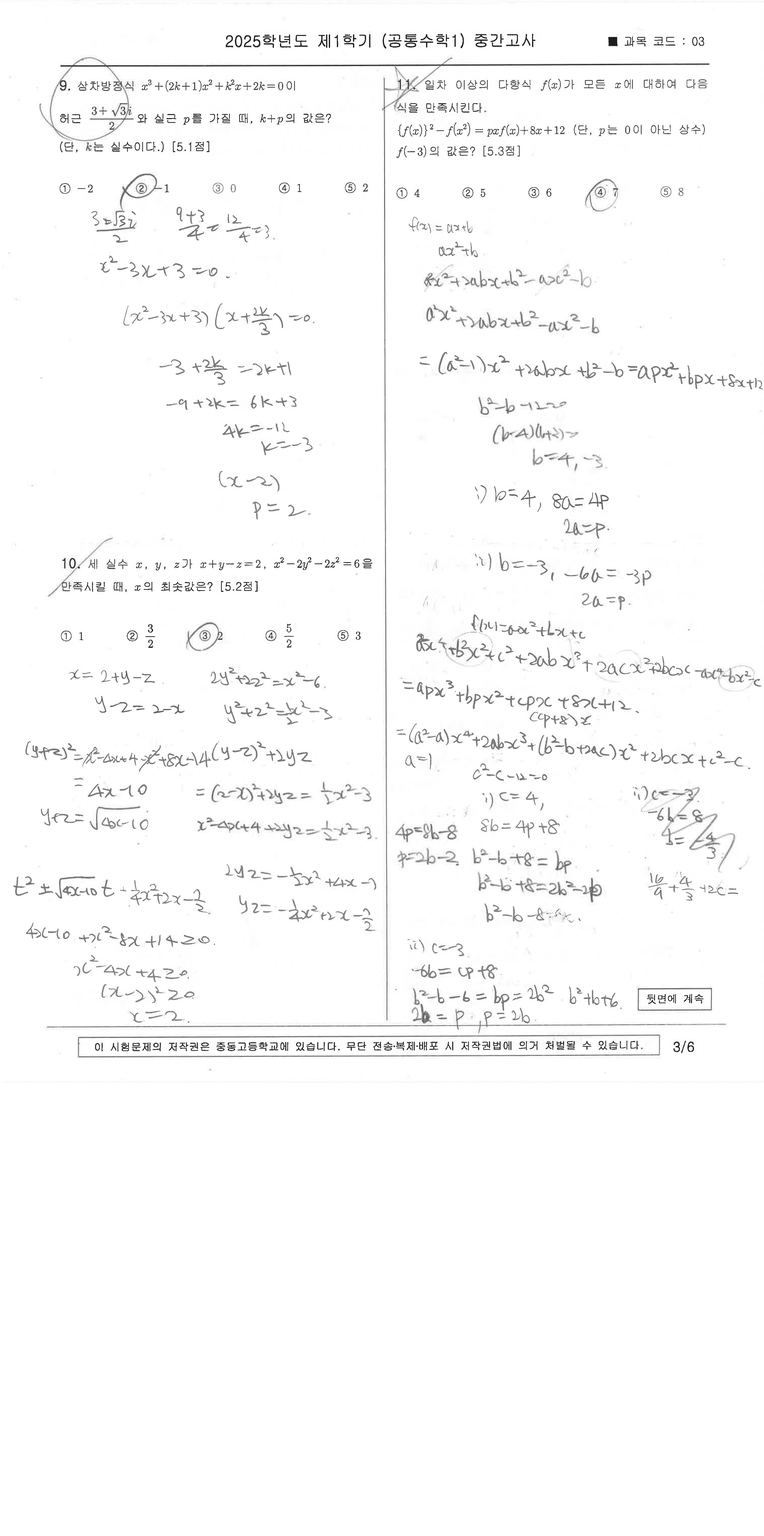problem: (392, 70, 716, 210), (49, 73, 375, 201), (56, 545, 376, 654)
